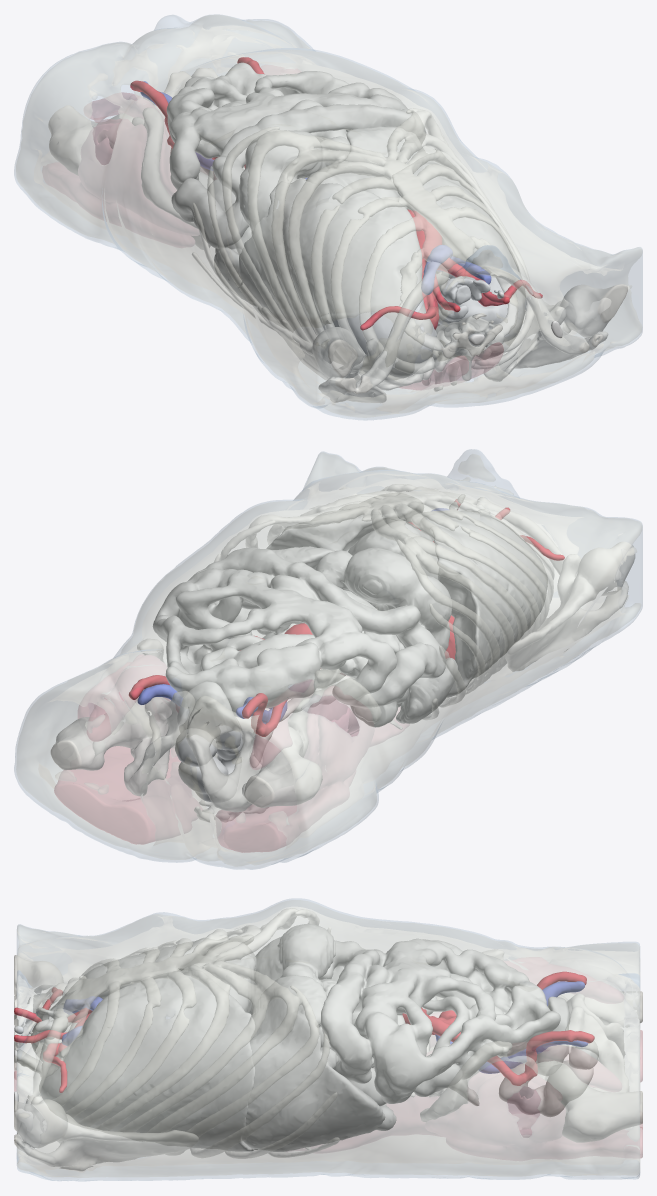
The model's file is patient.glb.
The picture shows the model from 3 angles, top to bottom: view 1: azimuth 30°, elevation 25°; view 2: azimuth 150°, elevation 25°; view 3: azimuth 270°, elevation 25°; orthographic projection. The views are drawn at different scales.
Visible parts, largest first — view 1: skin, adipose, bone, lung, gut, arterial, muscle, liver, heart, rest, venous, spleen (+1 smaller); view 2: skin, adipose, bone, gut, lung, muscle, rest, heart, arterial, spleen, kidney, venous (+1 smaller); view 3: skin, adipose, bone, gut, lung, liver, arterial, rest, heart, venous, muscle.
Part boxes in pixels (x1,y1,x2,y2): skin: [14, 14, 642, 420]; adipose: [16, 15, 641, 417]; bone: [48, 68, 627, 402]; lung: [239, 149, 526, 379]; gut: [166, 62, 562, 338]; arterial: [130, 57, 542, 330]; muscle: [90, 92, 503, 389]; liver: [337, 126, 428, 197]; heart: [306, 166, 438, 273]; rest: [184, 76, 504, 361]; venous: [140, 81, 491, 294]; spleen: [214, 247, 257, 306]; skin: [14, 449, 642, 869]; adipose: [17, 453, 641, 865]; bone: [50, 484, 635, 822]; gut: [152, 547, 451, 802]; lung: [266, 493, 547, 697]; muscle: [54, 679, 359, 852]; rest: [175, 494, 489, 767]; heart: [346, 521, 438, 579]; arterial: [128, 499, 564, 736]; spleen: [396, 658, 457, 723]; kidney: [339, 631, 408, 727]; venous: [137, 508, 448, 723]; skin: [16, 898, 640, 1181]; adipose: [17, 900, 639, 1177]; bone: [14, 908, 642, 1170]; gut: [14, 924, 593, 1116]; lung: [31, 934, 257, 1151]; liver: [241, 975, 385, 1151]; arterial: [14, 971, 594, 1092]; rest: [14, 996, 598, 1105]; heart: [182, 942, 256, 1012]; venous: [62, 981, 588, 1073]; muscle: [14, 1030, 642, 1158].
Bounding box in the file's own units: 0.4006 × 0.2671 × 0.6887.
